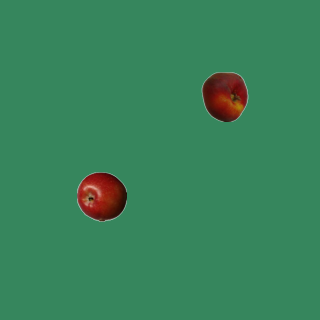Apple Braeburn: (76, 171, 126, 221)
Nectarine Flat: (199, 71, 249, 121)
